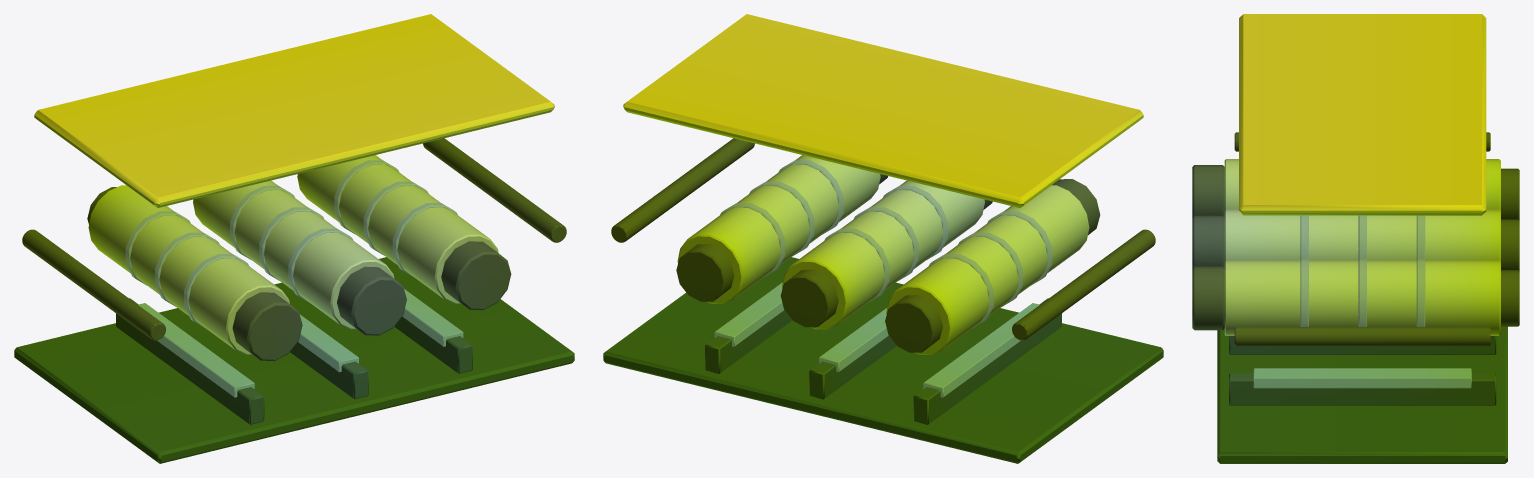
The model's file is RCLModule_tidebreaker_skirmisher_cryo_glacier_camo_fueldrums.fbx.
The picture shows the model from 3 angles, left to right: view 1: azimuth 30°, elevation 25°; view 2: azimuth 150°, elevation 25°; view 3: azimuth 270°, elevation 25°; orthographic projection.
Visible parts, largest first — view 1: RCLModule_tidebreaker_skirmisher_cryo_glacier_camo_fueldrums (×3); view 2: RCLModule_tidebreaker_skirmisher_cryo_glacier_camo_fueldrums (×3); view 3: RCLModule_tidebreaker_skirmisher_cryo_glacier_camo_fueldrums (×3).
Part boxes in pixels (left/top/right/bottom): RCLModule_tidebreaker_skirmisher_cryo_glacier_camo_fueldrums (×3): left=14, top=14, right=574, bottom=463; RCLModule_tidebreaker_skirmisher_cryo_glacier_camo_fueldrums (×3): left=603, top=14, right=1163, bottom=463; RCLModule_tidebreaker_skirmisher_cryo_glacier_camo_fueldrums (×3): left=1192, top=14, right=1519, bottom=463.
Bounding box in the file's own units: 66.02 × 38.6 × 45.05.
